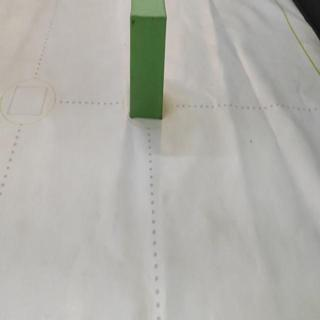greenbox: (127, 0, 168, 120)
